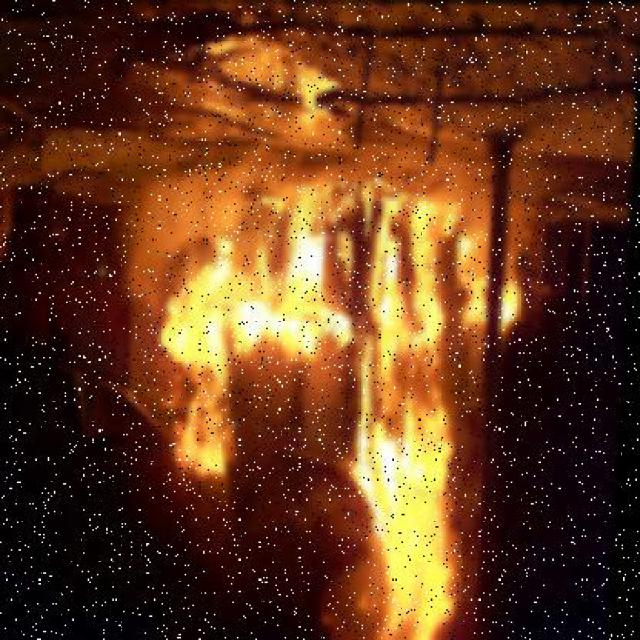fire: (342, 189, 495, 640), (161, 239, 276, 495), (274, 170, 357, 377)
